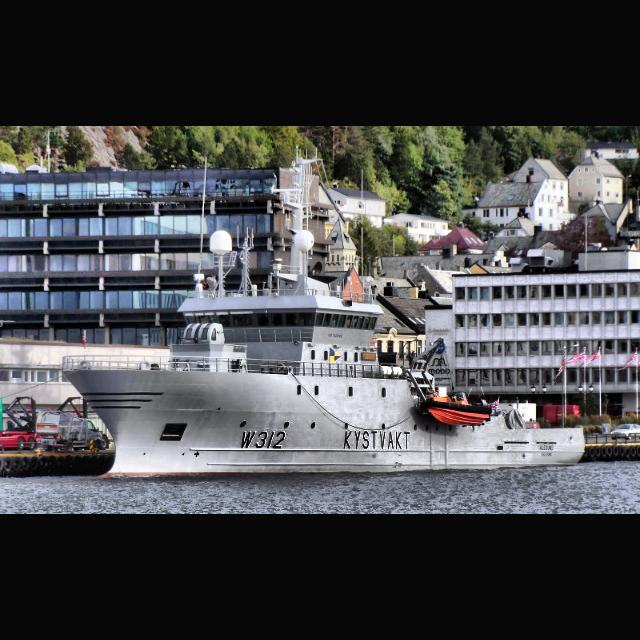combat_vessel: (57, 178, 588, 482)
